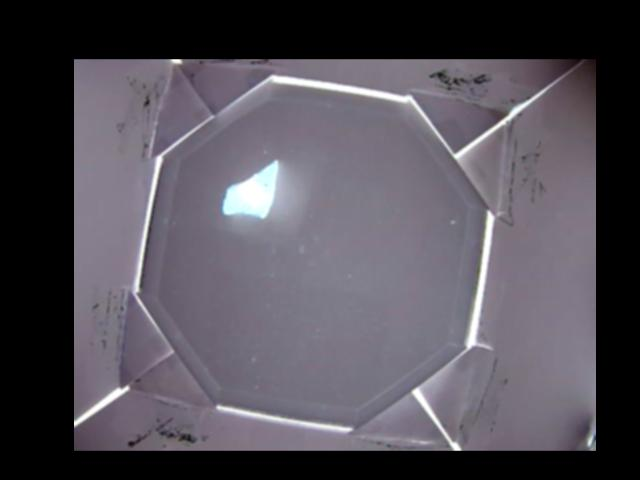Brisk: (223, 159, 278, 218)
